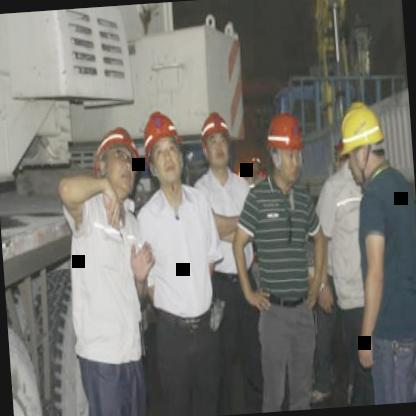helmet: (332, 99, 388, 184), (260, 106, 310, 190), (140, 108, 186, 190), (92, 124, 141, 200), (198, 108, 235, 172)
